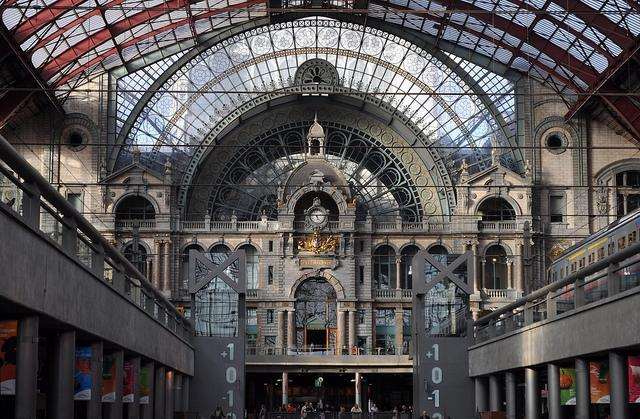pumpkin: (560, 370, 573, 389)
